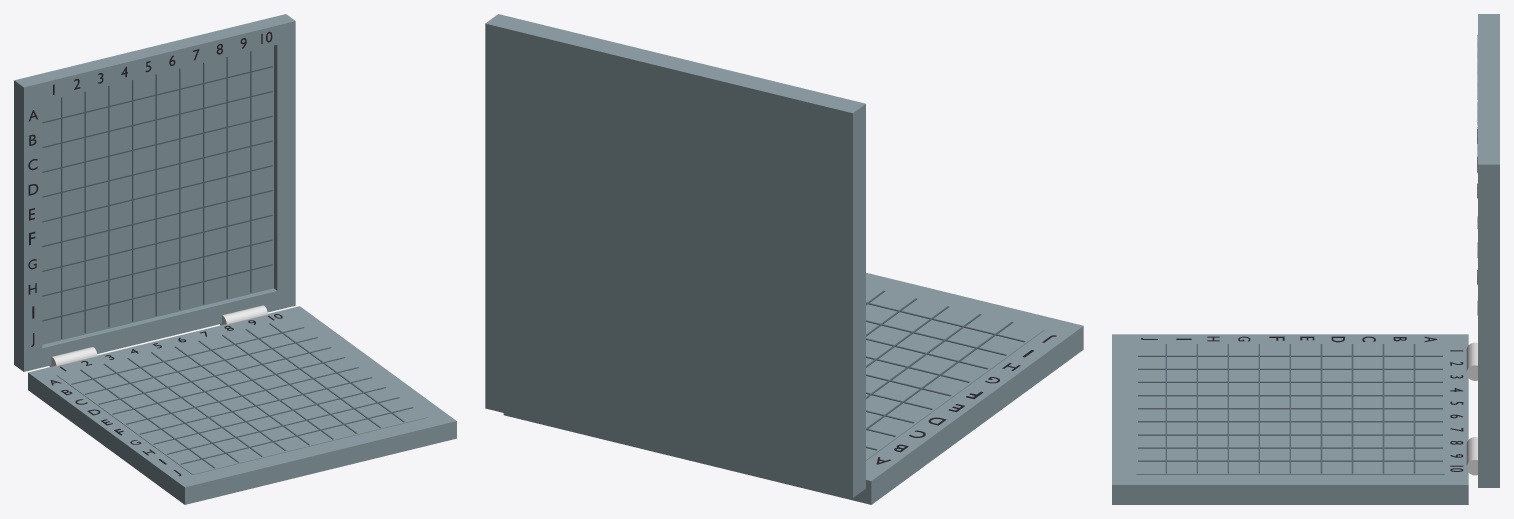
File: GameBoard.glb
The picture shows the model from 3 angles, left to right: view 1: azimuth 30°, elevation 25°; view 2: azimuth 150°, elevation 25°; view 3: azimuth 270°, elevation 25°; orthographic projection. The views are drawn at different scales.
Visible parts, largest first — view 1: Cube.019, Base, Cylinder, Cylinder.001; view 2: Cube.019, Base; view 3: Base, Cube.019, Cube.001, Cube.004, Cube.006, Cube.003, Cube.005, Cube.002, Cube.007, Cube.008, Cube.009.
Boxes of the visible parts, x1,y1,x2,y2 form: Cube.019: (14, 14, 295, 371); Base: (28, 306, 456, 504); Cylinder: (49, 347, 97, 366); Cylinder.001: (220, 305, 267, 325); Cube.019: (485, 14, 865, 497); Base: (503, 272, 1083, 504); Base: (1112, 334, 1468, 504); Cube.019: (1478, 14, 1499, 487); Cube.001: (1138, 395, 1442, 396); Cube.004: (1138, 408, 1442, 409); Cube.006: (1138, 421, 1442, 422); Cube.003: (1138, 368, 1442, 369); Cube.005: (1138, 355, 1442, 356); Cube.002: (1138, 381, 1442, 382); Cube.007: (1138, 434, 1442, 435); Cube.008: (1138, 447, 1442, 448); Cube.009: (1138, 460, 1442, 461).
Bounding box in the file's own units: 11.5 × 12.1 × 12.5.
